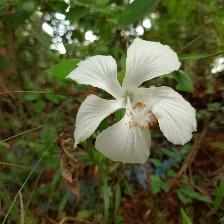hibiscus: (69, 39, 202, 166)
